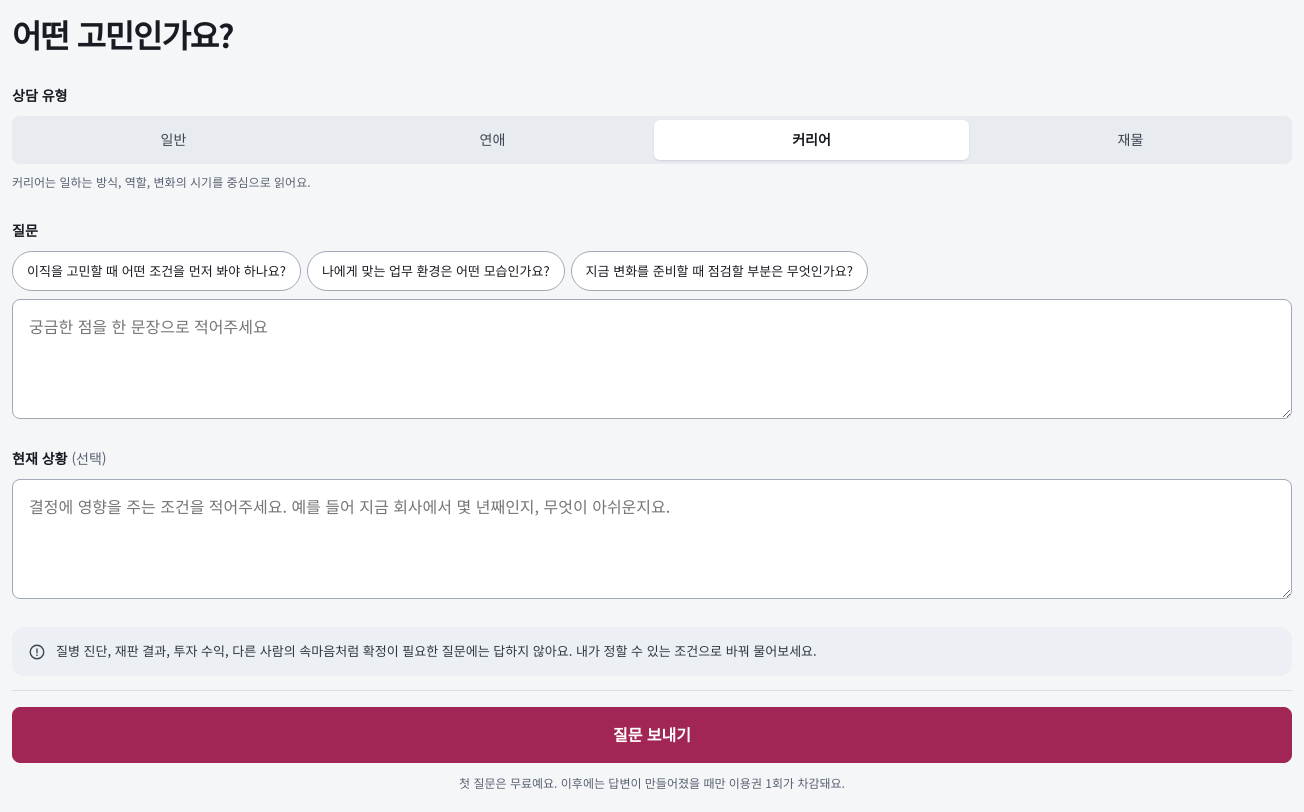
Scenario: consultation composer › shows the server's out-of-credit answer instead of a device check
The width and height of the screenshot is (1304, 812).
Type "이직해도 될까요?" into the text box labelled "질문".
click(652, 359); type("이직해도 될까요?")  # box [12,299,1292,419]
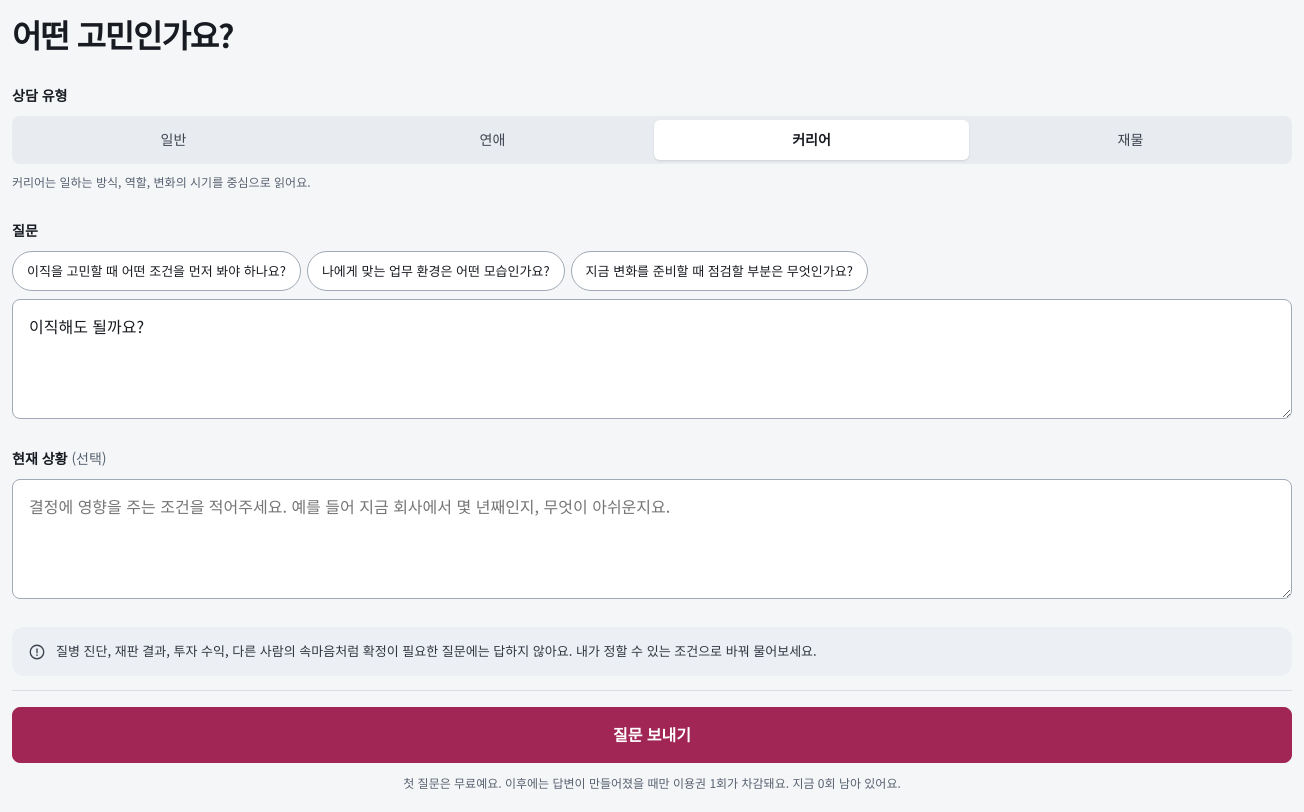
Click the button "질문 보내기".
click(652, 735)  # box [12,707,1292,763]
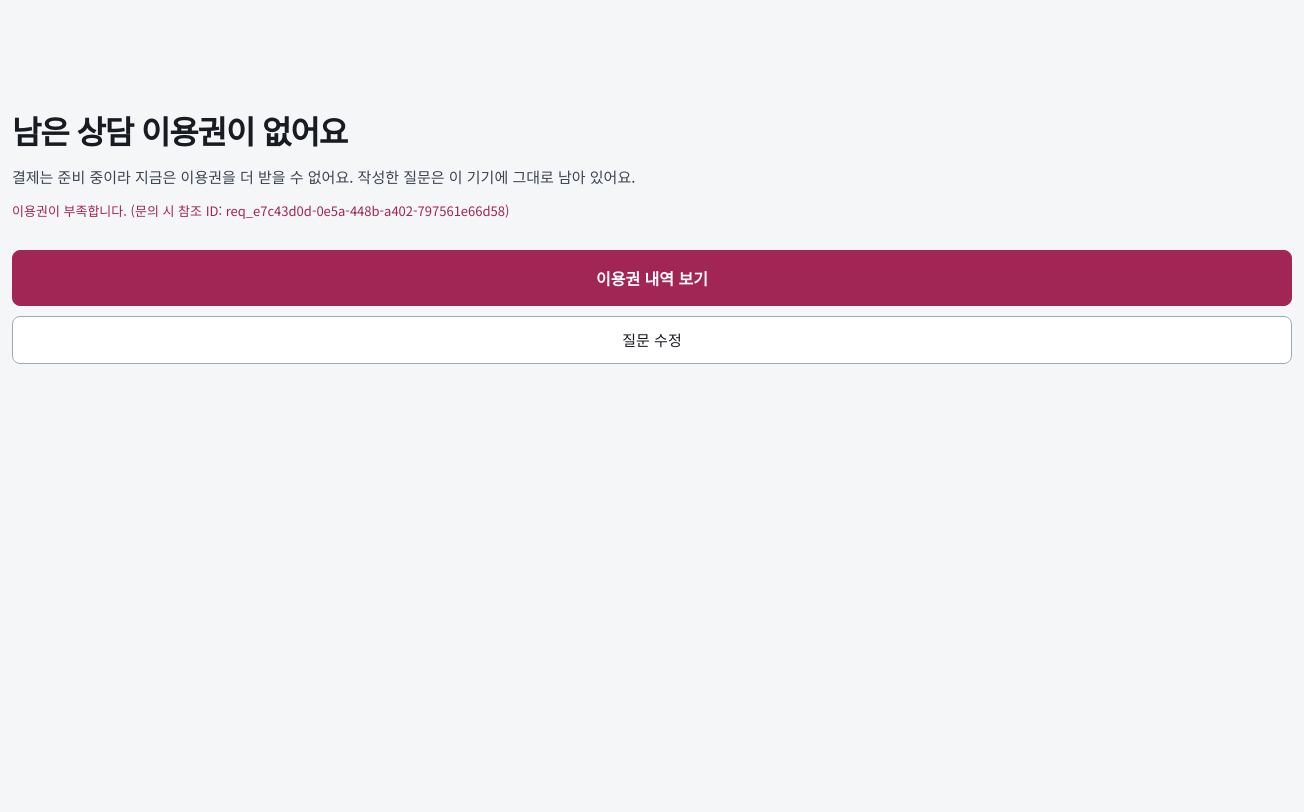
Expected: the heading "남은 상담 이용권이 없어요" is shown, [12,107,347,153]
